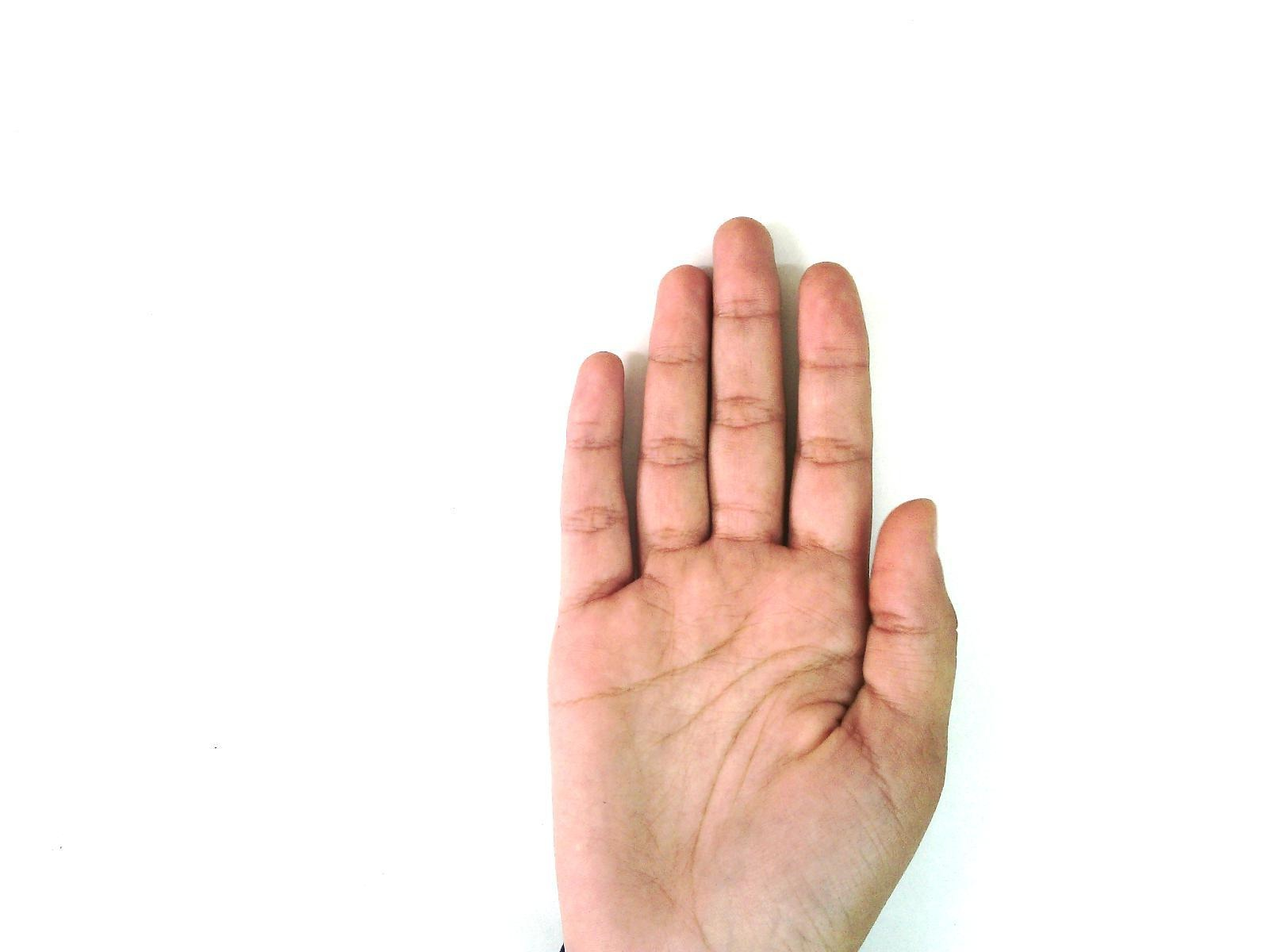open_palm: (543, 217, 962, 951)
